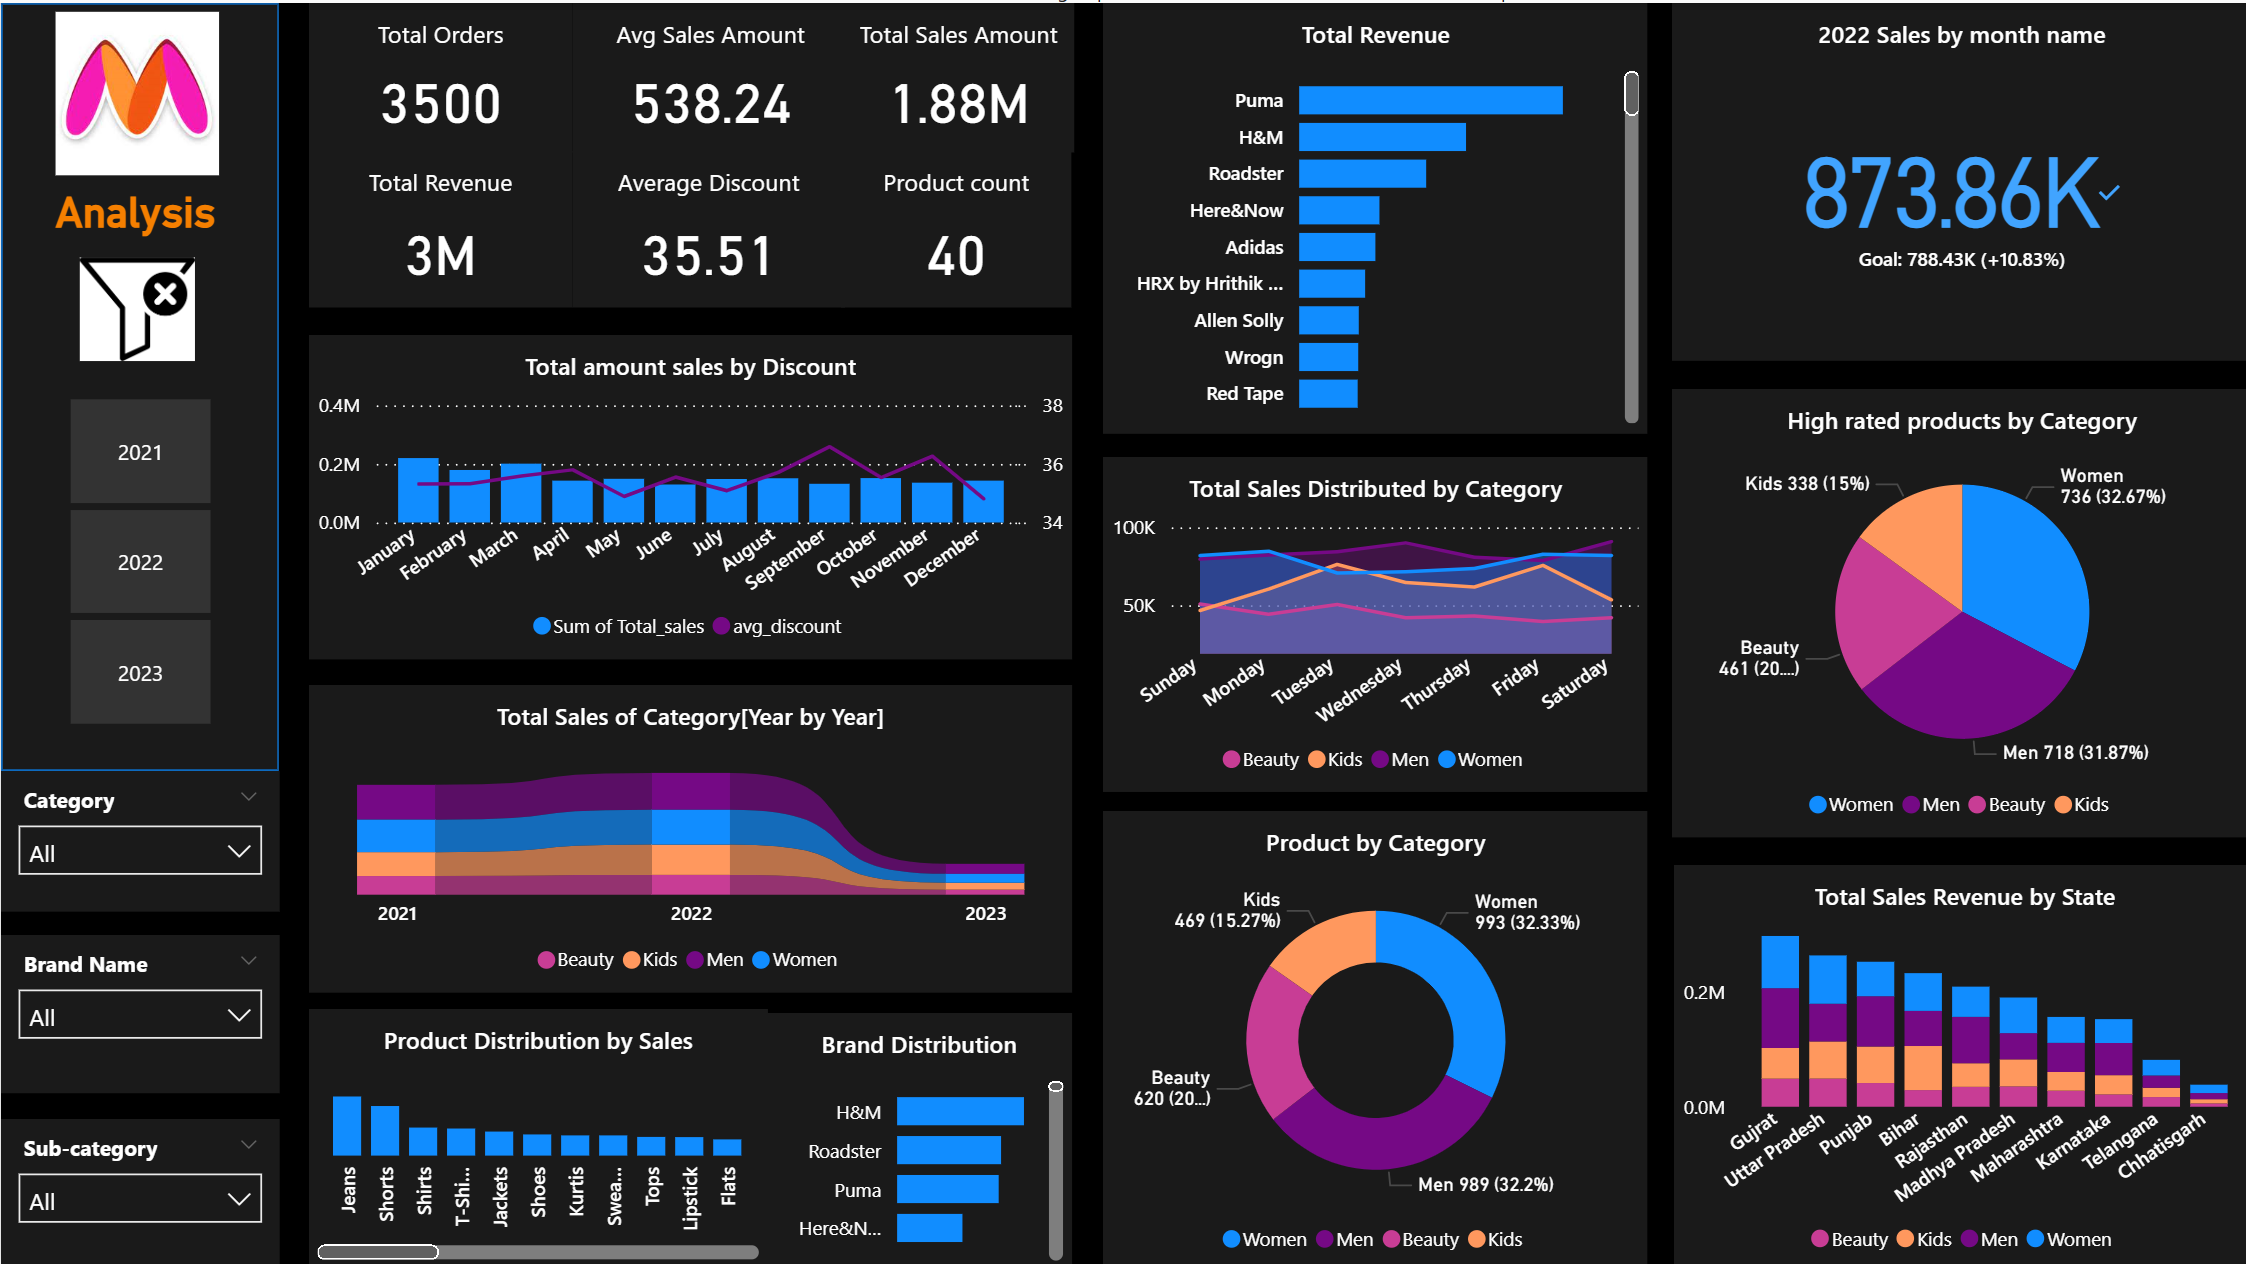

The page's visual inventory and layout, read from the dashboard file:
{"tool":"powerbi","page":{"name":"Page 1","canvas":[1280,720],"ordinal":0},"visuals":[{"type":"card","title":"Total Orders","fields":{"Values":["fact_orders.total_orders"]},"box":[175,0,150,85],"z":0},{"type":"card","title":"Avg Sales Amount","fields":{"Values":["fact_orders.avg_sales_amt"]},"box":[325,0,156.7,85],"z":1000},{"type":"card","title":"Total Sales Amount","fields":{"Values":["fact_orders.Total_sales"]},"box":[478.3,0,131.7,85],"z":2000},{"type":"card","title":"Total Revenue","fields":{"Values":["fact_orders.Total_revenue"]},"box":[174.9,84.3,149.9,89],"z":3000},{"type":"card","title":"Average Discount","fields":{"Values":["fact_orders.avg_discount"]},"box":[324.9,84.3,154.6,89],"z":4000},{"type":"card","title":"Product count","fields":{"Values":["fact_orders.Product_count"]},"box":[477.9,84.3,131.2,89],"z":5000},{"type":"slicer","fields":{"Values":["dim_products.Category"]},"box":[0,436.7,158.3,80],"z":6000},{"type":"slicer","fields":{"Values":["dim_products.Sub-category"]},"box":[0,635,158.3,85],"z":7000},{"type":"slicer","fields":{"Values":["dim_products.Brand Name"]},"box":[0,530,158.3,90],"z":8000},{"type":"lineStackedColumnComboChart","title":"Total amount sales by Discount","fields":{"Category":["date_table.Month_name"],"Y2":["fact_orders.avg_discount"],"Y":["fact_orders.Total_sales"]},"box":[174.9,189,434.2,184.3],"z":9000},{"type":"barChart","title":"Total Revenue","fields":{"Y":["fact_orders.Total_sales"],"Category":["dim_products.Brand Name"]},"box":[626.3,0,309.2,245.2],"z":10000},{"type":"barChart","title":"Brand Distribution","fields":{"Category":["dim_products.Brand Name"],"Y":["dim_products.Brand Name"]},"box":[435.7,574.8,173.4,146.8],"z":11000},{"type":"columnChart","title":"Product Distribution by Sales","fields":{"Category":["dim_products.Product Name"],"Y":["dim_products.Product Name"]},"box":[174.9,571.6,260.8,148.4],"z":12000},{"type":"columnChart","title":"Total Sales Revenue by State","fields":{"Series":["dim_products.Category"],"Category":["dim_customers.State"],"Y":["fact_orders.Total_sales"]},"box":[951.1,490.4,331.1,231.1],"z":13000},{"type":"ribbonChart","title":"Total Sales of Category[Year by Year]","fields":{"Category":["date_table.Date.Variation.Date Hierarchy.Year","date_table.Date.Variation.Date Hierarchy.Quarter","date_table.Date.Variation.Date Hierarchy.Month","date_table.Date.Variation.Date Hierarchy.Day"],"Series":["dim_products.Category"],"Y":["fact_orders.Total_sales"]},"box":[174.9,387.3,434.2,174.9],"z":14000},{"type":"donutChart","title":"Product by Category","fields":{"Category":["dim_products.Category"],"Y":["dim_products.Product Name"]},"box":[626.3,459.2,309.2,262.4],"z":15000},{"type":"kpi","title":"2022 Sales by month name","fields":{"TrendLine":["date_table.Month_name"],"Goal":["date_table.sales_2021"],"Indicator":["fact_orders.sales_2022"]},"box":[951.1,0,329.5,203],"z":16000},{"type":"pieChart","title":"High rated products by Category","fields":{"Category":["dim_products.Category"],"Y":["dim_products.High_rated_products"]},"box":[949.8,219.3,330.2,255],"z":17000},{"type":"shape","box":[0,0,157.7,437.3],"z":18000},{"type":"image","box":[25,0,104.6,103.1],"z":19000},{"type":"textbox","box":[14.1,100,131.2,42.2],"z":20000},{"type":"image","box":[40.3,137.7,75.3,72.7],"z":21000},{"type":"slicer","fields":{"Values":["date_table.Years"]},"box":[14.1,218.7,129.6,198.4],"z":22000},{"type":"areaChart","title":"Total Sales Distributed by Category","fields":{"Category":["date_table.Days of week"],"Y":["fact_orders.Total_sales"],"Series":["dim_products.Category"]},"box":[626.3,257.7,309.2,190.5],"z":23000}]}

Visuals, with their boxes in screenshot pixels (x1, y1, x2, y2), scaled from the page's 1280x720 canvas onto the 2246x1264 screenshot:
"Total Orders" card: 307:0:570:149
"Avg Sales Amount" card: 570:0:845:149
"Total Sales Amount" card: 839:0:1070:149
"Total Revenue" card: 307:148:570:304
"Average Discount" card: 570:148:841:304
"Product count" card: 839:148:1069:304
slicer - dim_products.Category: 0:767:278:907
slicer - dim_products.Sub-category: 0:1115:278:1263
slicer - dim_products.Brand Name: 0:930:278:1088
"Total amount sales by Discount" lineStackedColumnComboChart: 307:332:1069:655
"Total Revenue" barChart: 1099:0:1642:430
"Brand Distribution" barChart: 765:1009:1069:1263
"Product Distribution by Sales" columnChart: 307:1003:765:1263
"Total Sales Revenue by State" columnChart: 1669:861:2245:1263
"Total Sales of Category[Year by Year]" ribbonChart: 307:680:1069:987
"Product by Category" donutChart: 1099:806:1642:1263
"2022 Sales by month name" kpi: 1669:0:2245:356
"High rated products by Category" pieChart: 1667:385:2245:833
shape: 0:0:277:768
image: 44:0:227:181
textbox: 25:176:255:250
image: 71:242:203:369
slicer - date_table.Years: 25:384:252:732
"Total Sales Distributed by Category" areaChart: 1099:452:1642:787
